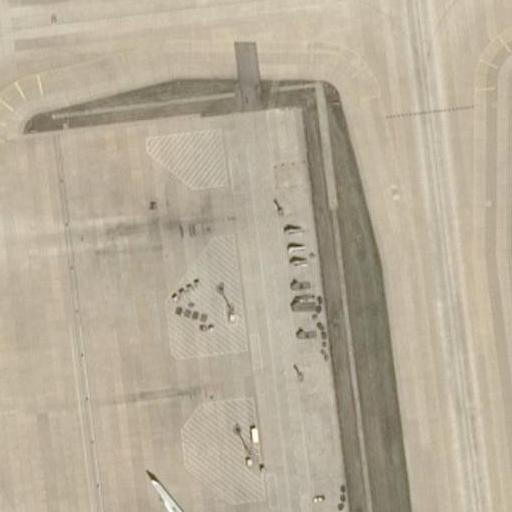Aircraft: (91, 474, 250, 512)
